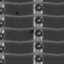dust: (15, 11, 19, 15), (30, 28, 33, 33)
